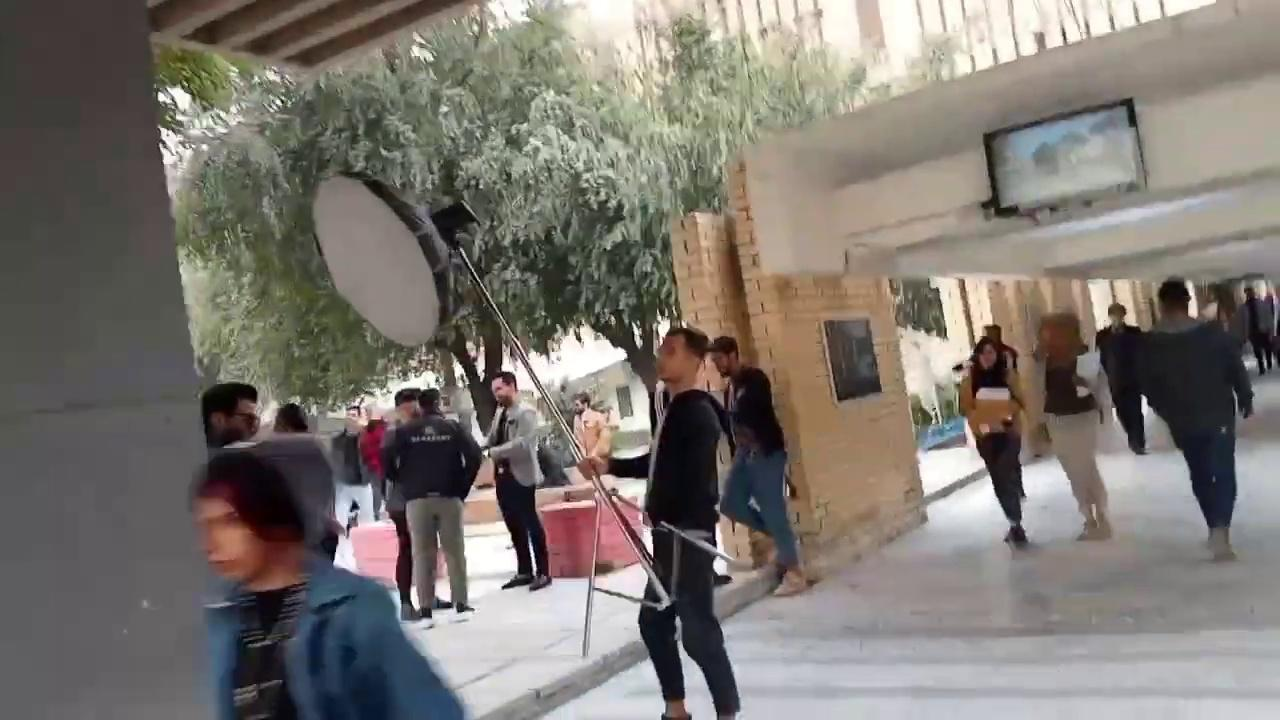person: (189, 449, 465, 719), (637, 327, 741, 719), (1136, 279, 1255, 561), (704, 335, 807, 596), (1033, 311, 1112, 540), (479, 370, 552, 590), (958, 336, 1028, 542), (1096, 302, 1150, 455)
tree: (153, 0, 901, 473)
